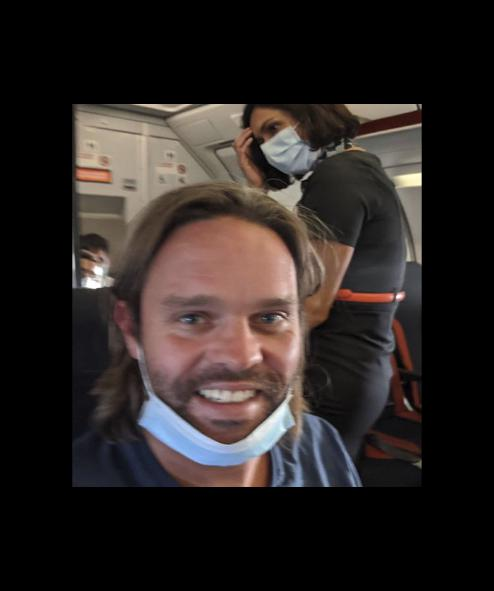mask_weared_incorrect: (144, 273, 297, 451)
with_mask: (248, 117, 316, 172)
